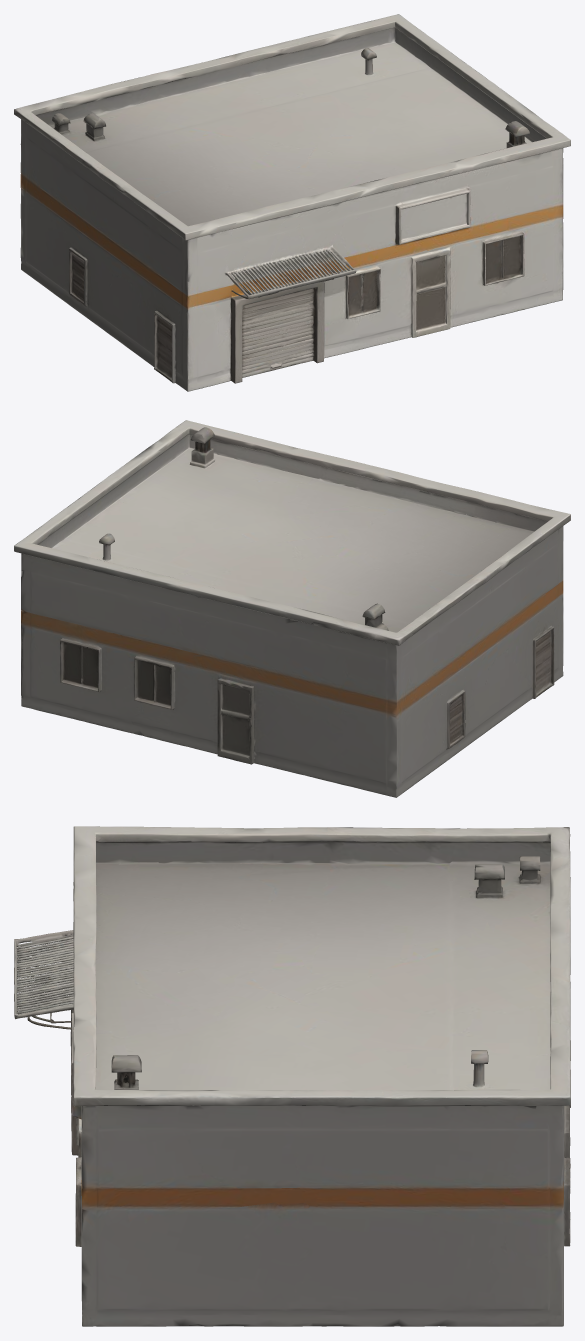
The model's file is transp_f0.glb.
The picture shows the model from 3 angles, top to bottom: view 1: azimuth 30°, elevation 25°; view 2: azimuth 150°, elevation 25°; view 3: azimuth 270°, elevation 25°; orthographic projection. The views are drawn at different scales.
Visible parts, largest first — view 1: tripo_node_b0cb5687-fe38-4518-83f5-3dc2d1b3e17e; view 2: tripo_node_b0cb5687-fe38-4518-83f5-3dc2d1b3e17e; view 3: tripo_node_b0cb5687-fe38-4518-83f5-3dc2d1b3e17e.
Boxes of the visible parts, x1,y1,x2,y2 form: tripo_node_b0cb5687-fe38-4518-83f5-3dc2d1b3e17e: (14,14,570,391); tripo_node_b0cb5687-fe38-4518-83f5-3dc2d1b3e17e: (14,420,570,797); tripo_node_b0cb5687-fe38-4518-83f5-3dc2d1b3e17e: (14,826,570,1326).
Size of the model in its own units: 14 by 5.99 by 12.12.
1 material, 1 textured.
